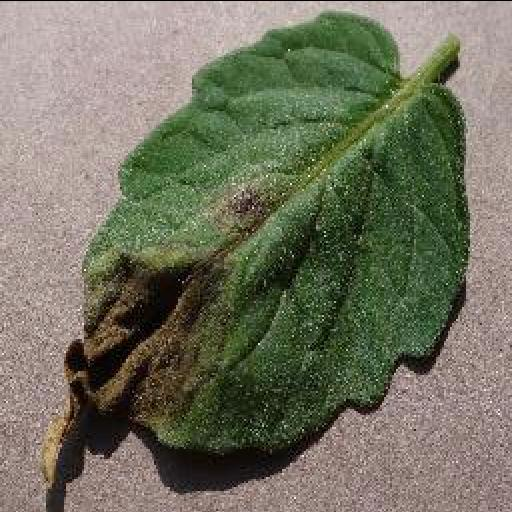disease_tomato: (41, 10, 471, 510)
